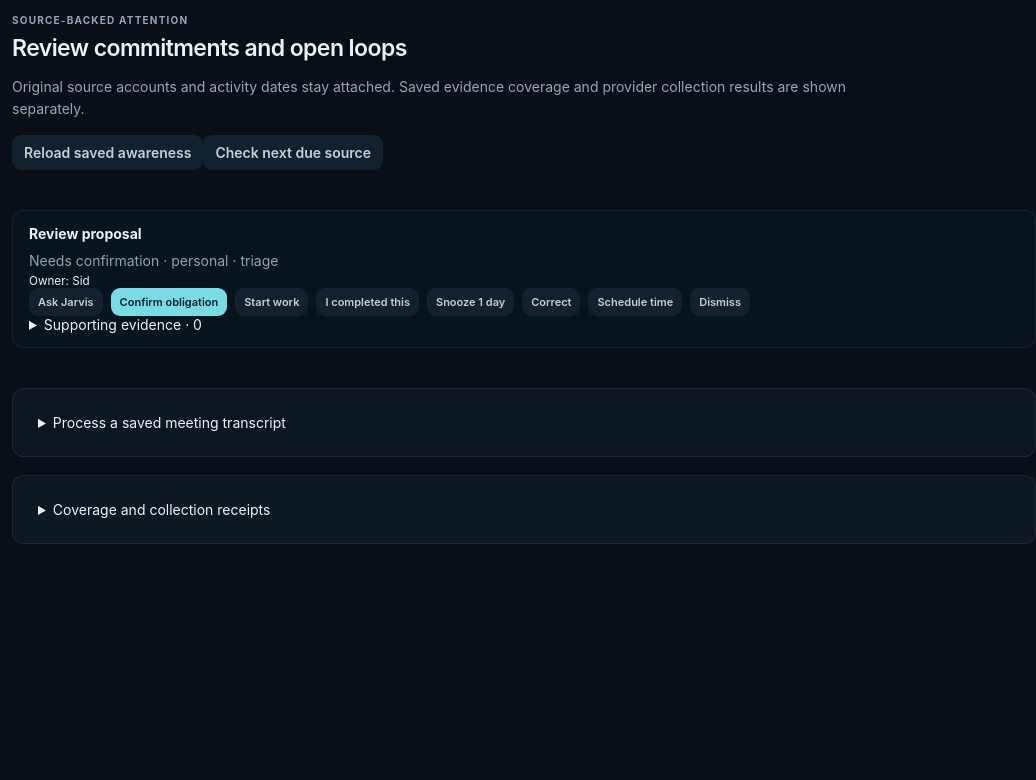
Scenario: requires a current reviewed task version and labels completion as an owner claim
This screenshot has width=1036, height=780.
Expected: the text "Review proposal" is shown, [29, 225, 142, 242]
Click the button "I completed this".
click(368, 302)  # box [316, 288, 419, 316]
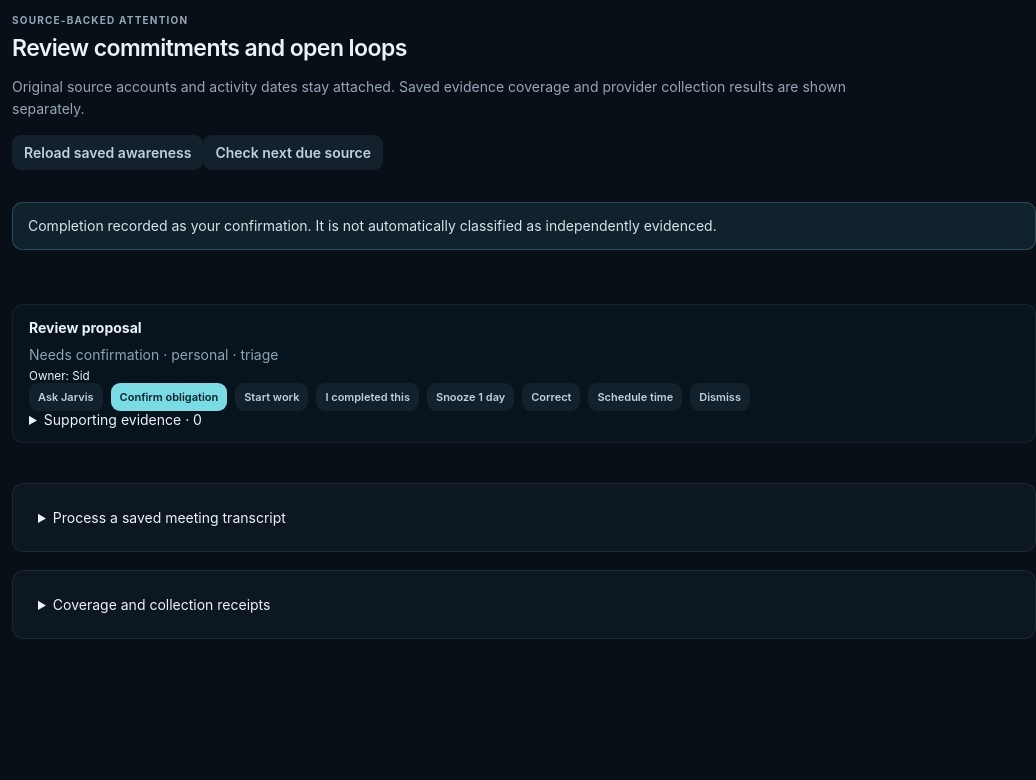
Expected: the message shows "not automatically classified as independently evidenced", [28, 217, 717, 234]
